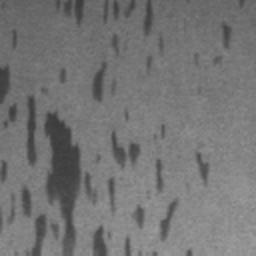Red iron sheet: (0, 64, 210, 256), (52, 0, 174, 104), (193, 22, 234, 65), (12, 29, 17, 51), (1, 1, 9, 12), (123, 109, 129, 123), (197, 82, 202, 95), (187, 248, 192, 256)
